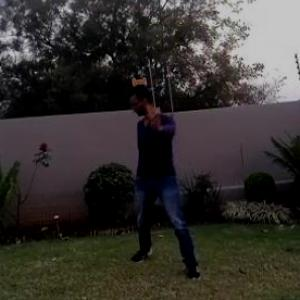takeoff-hand: (142, 100, 166, 134)
